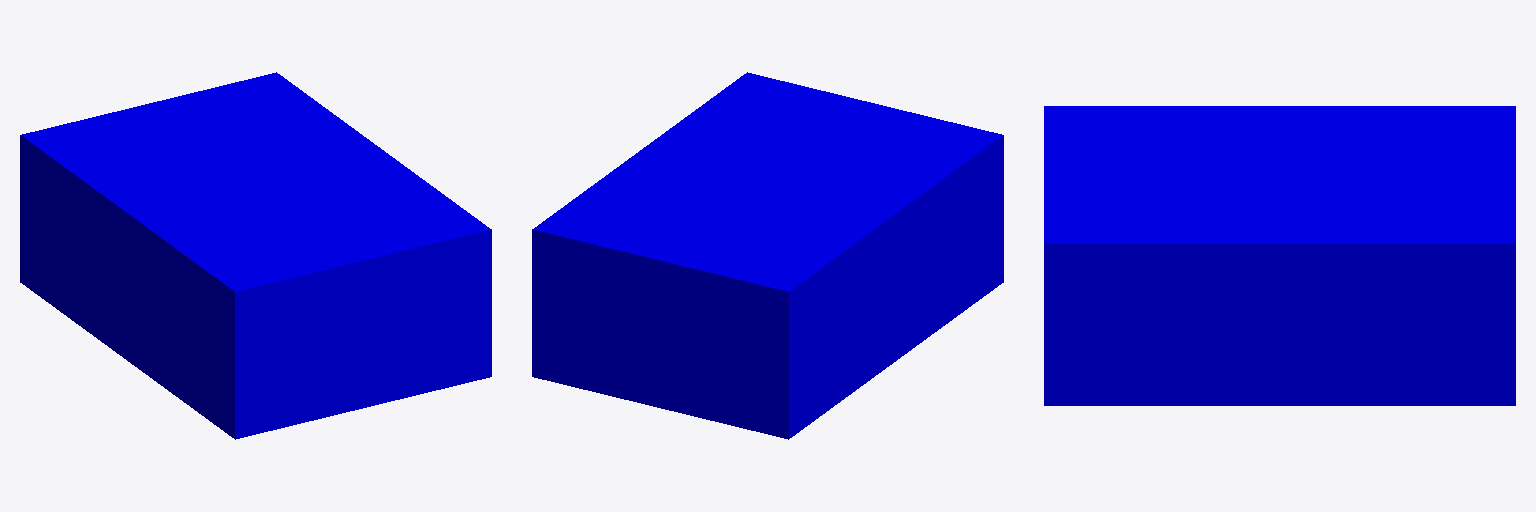
robot.urdf — paper_box:
<robot name="paper_box">
  <link name="base_link">
    <collision>
      <origin xyz="0 0 0" />
      <geometry>
        <box size="0.2 0.29 0.11" />
      </geometry>
    </collision>
    <visual>
      <origin xyz="0 0 0" />
      <material name="c">
        <color rgba="0 0 1.0 1.0" />
      </material>
      <geometry>
        <box size="0.2 0.29 0.11" />
      </geometry>
    </visual>
  </link>
</robot>

--- Facts derived from the render (not from the file) ---
Views: 3 orthographic renders of the robot side by side, from view 1: azimuth 30°, elevation 25°; view 2: azimuth 150°, elevation 25°; view 3: azimuth 270°, elevation 25°.
Model paper_box with 1 links and 0 joints (none), rooted at base_link, posed all joints at 0.
Visible links, largest first — view 1: base_link; view 2: base_link; view 3: base_link.
Boxes of the visible links, bbox=[...] form: base_link: bbox=[20, 72, 491, 439]; base_link: bbox=[532, 72, 1003, 439]; base_link: bbox=[1044, 106, 1515, 405].
Bounding box of the posed robot: 0.2 × 0.29 × 0.11 m (x, y, z).
Geometry: primitives only (box / cylinder / sphere), no mesh files.